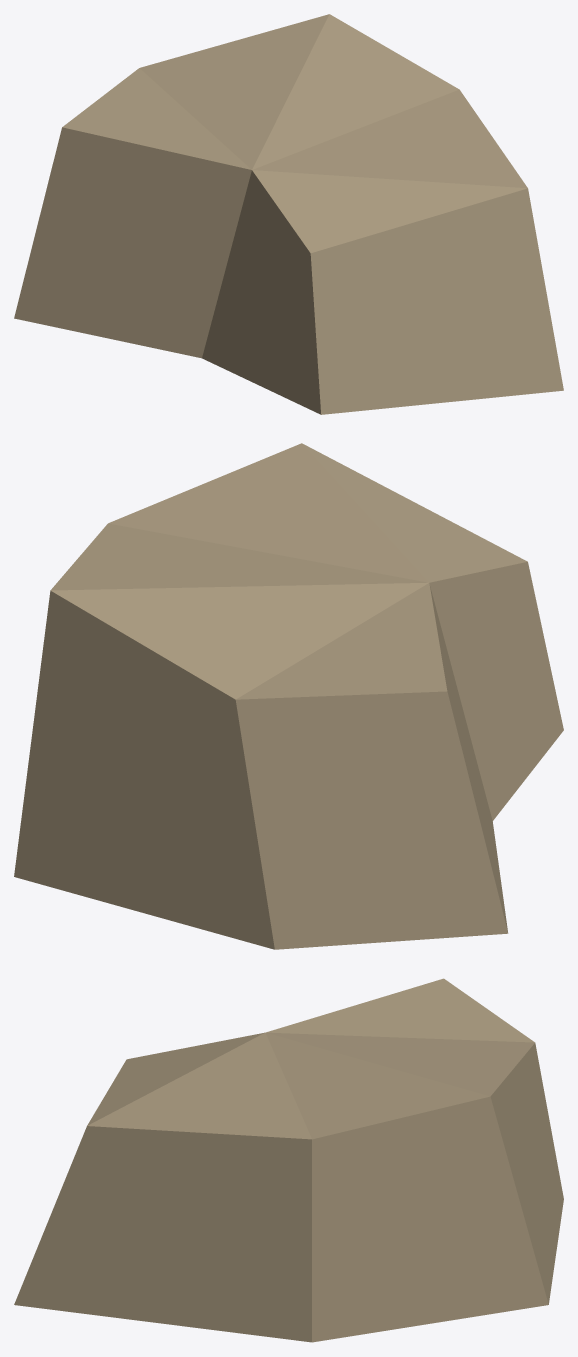
The model's file is FlatRock-C06.fbx.
3 views of the same model, one above another, from view 1: azimuth 30°, elevation 25°; view 2: azimuth 150°, elevation 25°; view 3: azimuth 270°, elevation 25° (orthographic). The views are drawn at different scales.
Parts seen in each view (by area): view 1: FlatRock-C06; view 2: FlatRock-C06; view 3: FlatRock-C06.
Part boxes in pixels (x1,y1,x2,y2): FlatRock-C06: [14, 14, 563, 414]; FlatRock-C06: [14, 443, 563, 949]; FlatRock-C06: [14, 978, 563, 1342].
Bounding box in the file's own units: 116 × 54.84 × 131.
